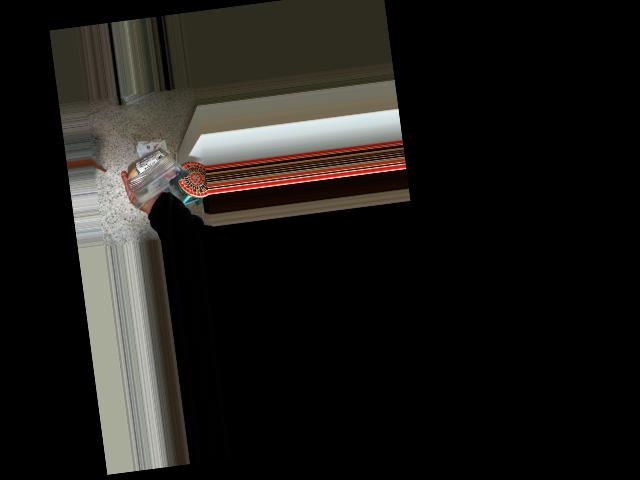cheese: (134, 132, 170, 198)
